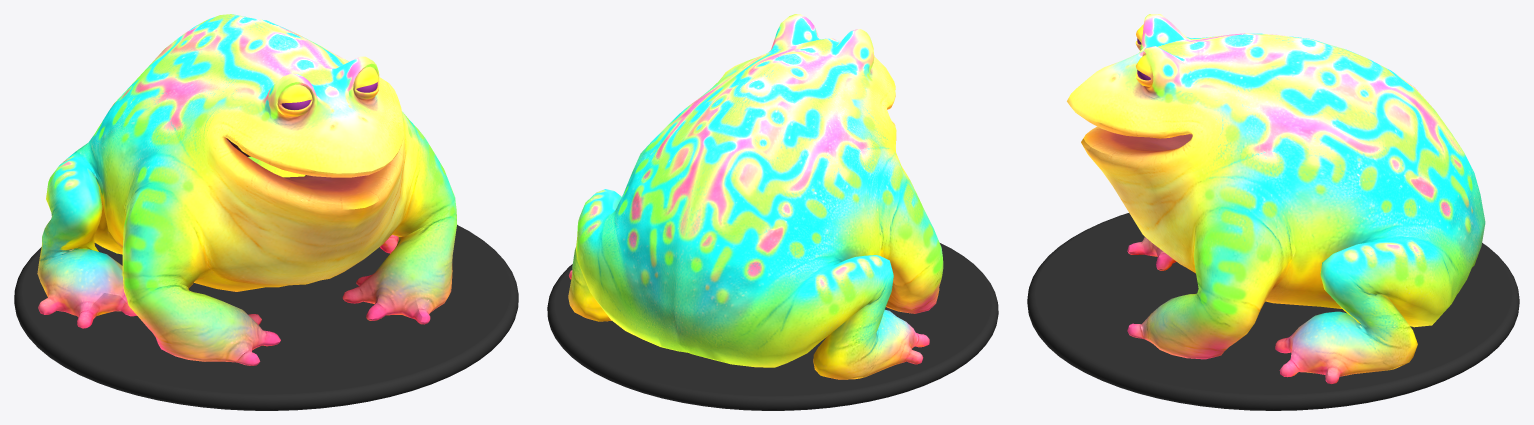
Rendered from colorful_frog__free.glb.
The picture shows the model from 3 angles, left to right: view 1: azimuth 30°, elevation 25°; view 2: azimuth 150°, elevation 25°; view 3: azimuth 270°, elevation 25°; orthographic projection. The views are drawn at different scales.
Parts seen in each view (by area): view 1: sa.002, BezierCircle_Mesh; view 2: sa.002, BezierCircle_Mesh; view 3: sa.002, BezierCircle_Mesh.
Part boxes in pixels (box(x1,y1,x2,y2)): sa.002: box(37, 14, 456, 365); BezierCircle_Mesh: box(14, 225, 518, 410); sa.002: box(568, 14, 943, 379); BezierCircle_Mesh: box(547, 243, 998, 410); sa.002: box(1067, 14, 1485, 383); BezierCircle_Mesh: box(1027, 213, 1519, 410).
Bounding box in the file's own units: 1.99 × 1.23 × 1.99.
3 materials, 1 textured.
